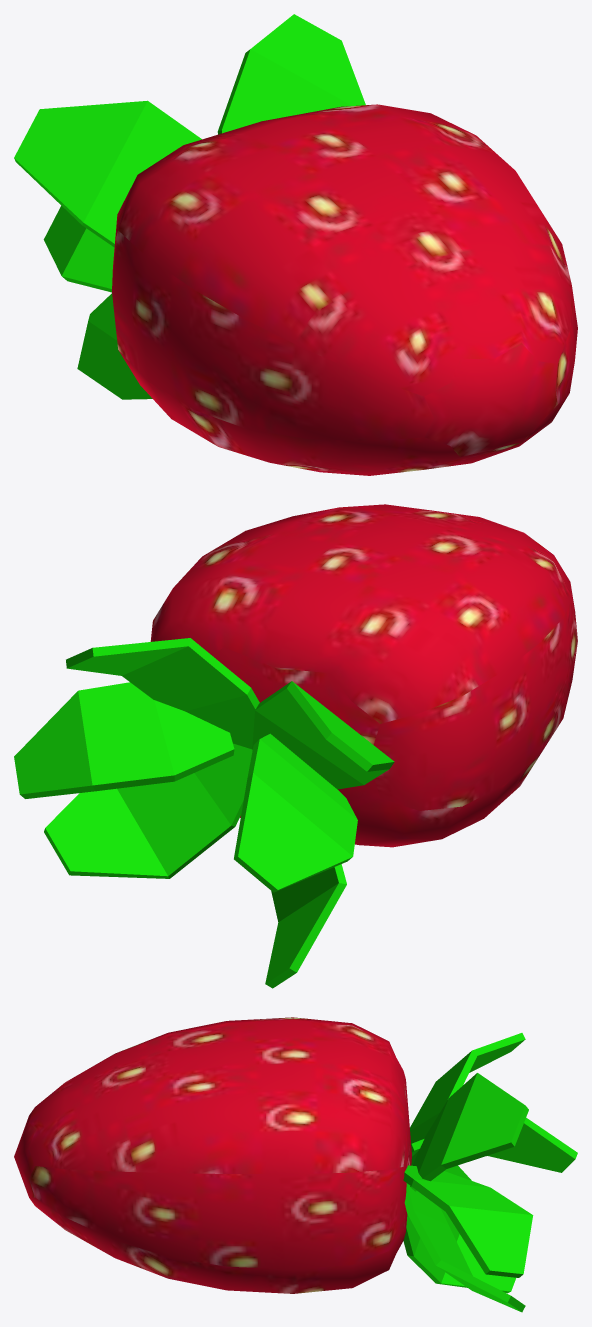
The model's file is berry.fbx.
The picture shows the model from 3 angles, top to bottom: view 1: azimuth 30°, elevation 25°; view 2: azimuth 150°, elevation 25°; view 3: azimuth 270°, elevation 25°; orthographic projection. The views are drawn at different scales.
Visible parts, largest first — view 1: Plane; view 2: Plane; view 3: Plane.
Boxes of the visible parts, x1=… form: Plane: x1=14, y1=14, x2=577, y2=475; Plane: x1=14, y1=504, x2=577, y2=988; Plane: x1=14, y1=1017, x2=577, y2=1312.
Size of the model in its own units: 239 by 192 by 368.
2 materials, 1 textured.
